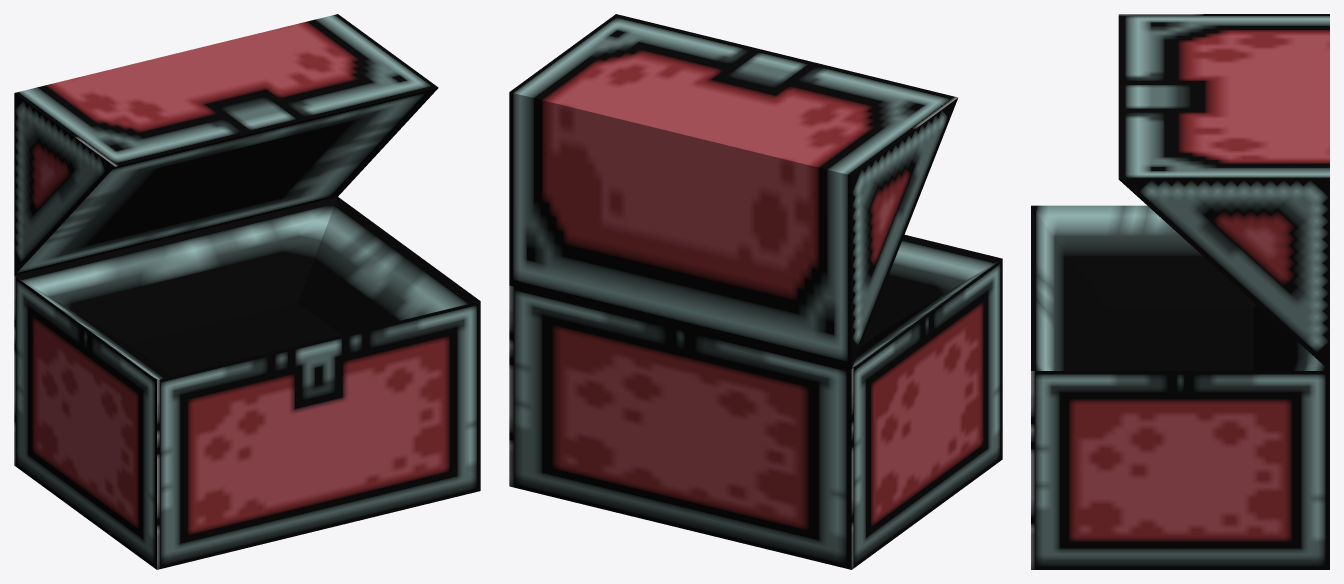
File: deco_cathedral_chestSmallOpen.FBX
3 renders of one model, left to right at view 1: azimuth 30°, elevation 25°; view 2: azimuth 150°, elevation 25°; view 3: azimuth 270°, elevation 25°, orthographic. The views are drawn at different scales.
Visible parts, largest first — view 1: deco_cathedral_chestSmallOpen; view 2: deco_cathedral_chestSmallOpen; view 3: deco_cathedral_chestSmallOpen.
Boxes of the visible parts, x1=… form: deco_cathedral_chestSmallOpen: x1=14, y1=14, x2=480, y2=569; deco_cathedral_chestSmallOpen: x1=509, y1=14, x2=1002, y2=569; deco_cathedral_chestSmallOpen: x1=1031, y1=14, x2=1329, y2=569.
Bounding box in the file's own units: 1.55 × 1.71 × 1.18.
Materials: 1 (1 with a texture image).
